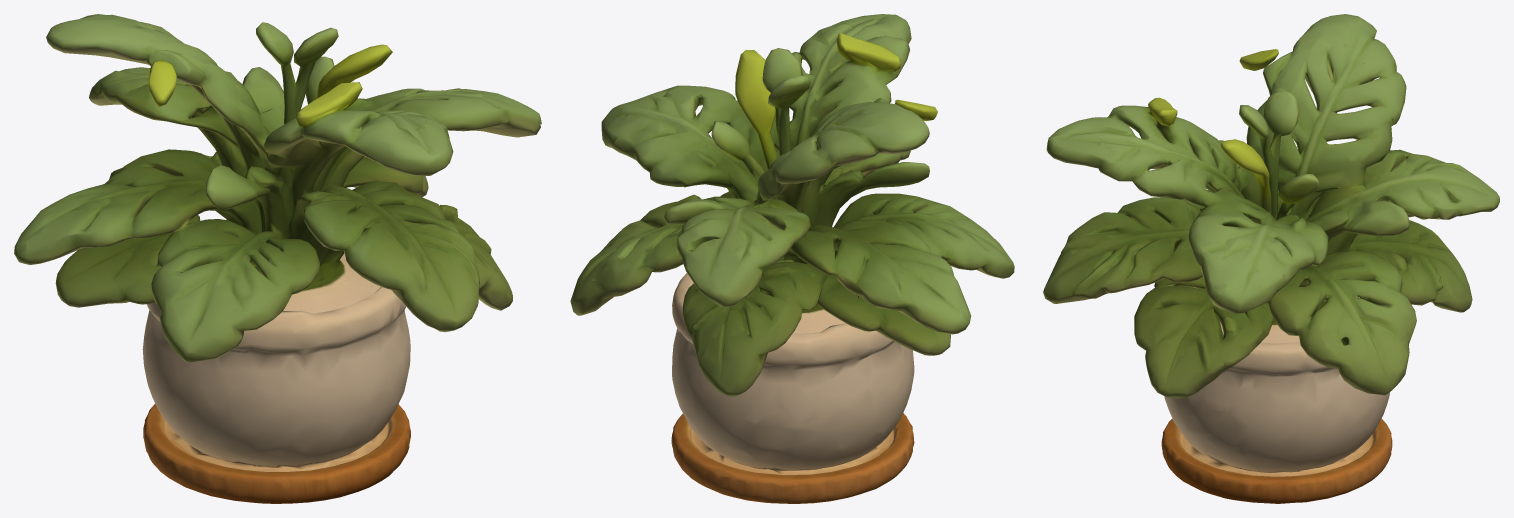
File: restaurant-plant.glb
The picture shows the model from 3 angles, left to right: view 1: azimuth 30°, elevation 25°; view 2: azimuth 150°, elevation 25°; view 3: azimuth 270°, elevation 25°; orthographic projection. The views are drawn at different scales.
Parts seen in each view (by area): view 1: tripo_node_4d3e0d73-0ad2-4411-ba2a-04201bd20e2b; view 2: tripo_node_4d3e0d73-0ad2-4411-ba2a-04201bd20e2b; view 3: tripo_node_4d3e0d73-0ad2-4411-ba2a-04201bd20e2b.
Boxes of the visible parts, <box> form: tripo_node_4d3e0d73-0ad2-4411-ba2a-04201bd20e2b: <box>14,14,541,503</box>; tripo_node_4d3e0d73-0ad2-4411-ba2a-04201bd20e2b: <box>570,14,1014,503</box>; tripo_node_4d3e0d73-0ad2-4411-ba2a-04201bd20e2b: <box>1043,14,1499,503</box>.
Bounding box in the file's own units: 0.9957 × 0.9052 × 1.
1 material, 1 textured.
